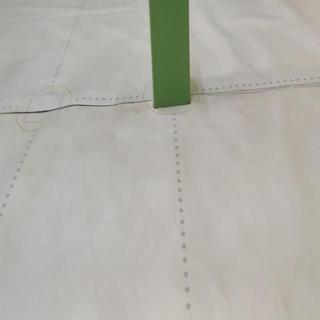greenbox: (148, 0, 195, 109)
